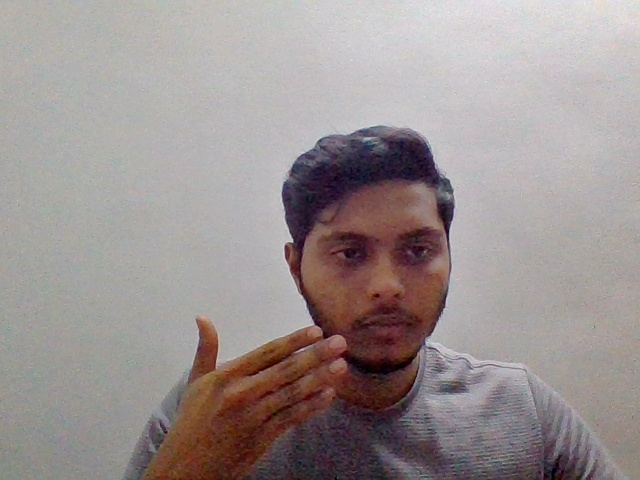Thanks: (163, 304, 594, 480)
